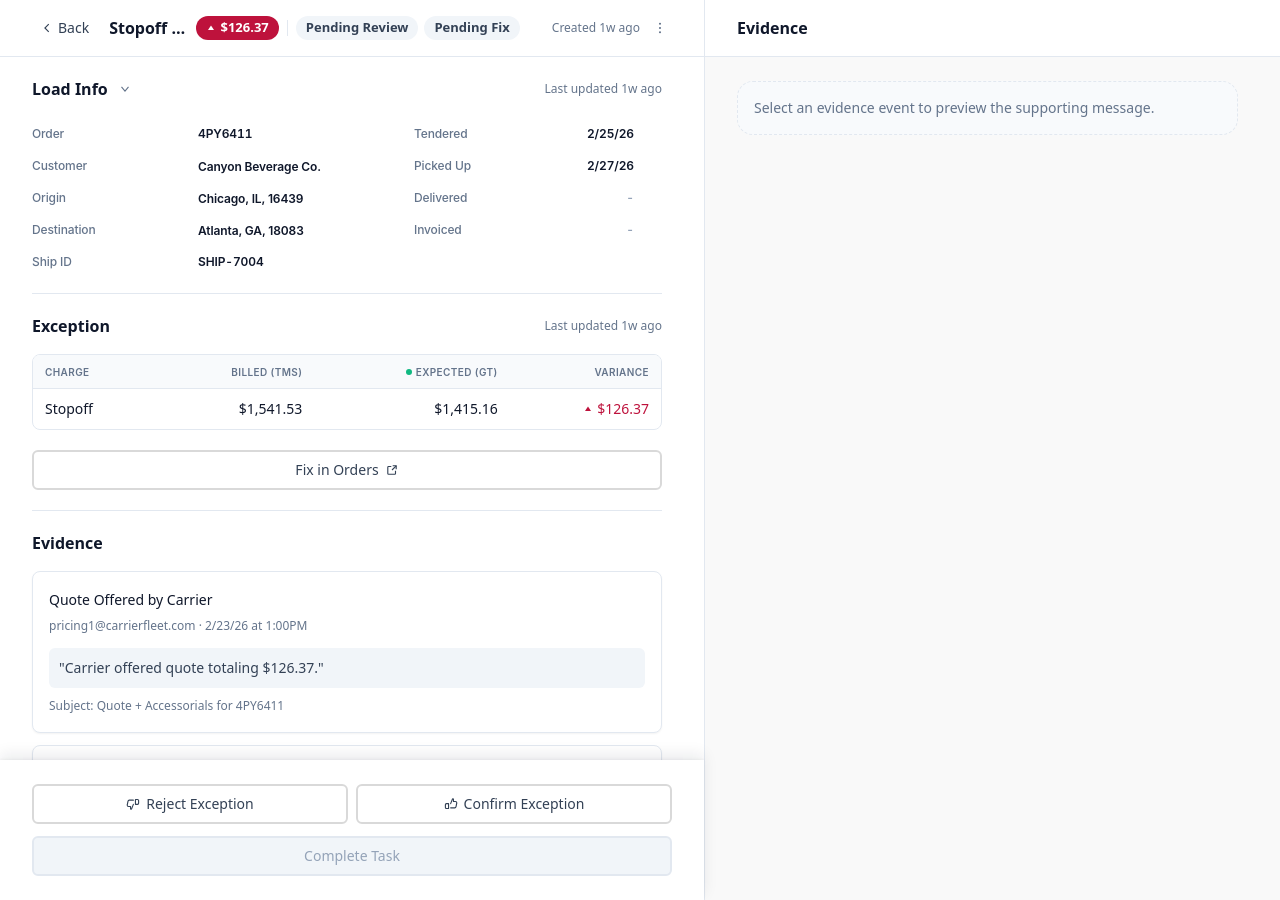
Test: DetailPage › updates header status chips based on agree/disagree selection and supports deselect
Expected: the element with test id "default-decision-row" is shown, [32,784,672,824]
Expected: the button with test id "complete-task-inactive" is disabled, [32,836,672,876]
Click the button with test id "decision-disagree".
click(190, 804)  # box [32,784,348,824]
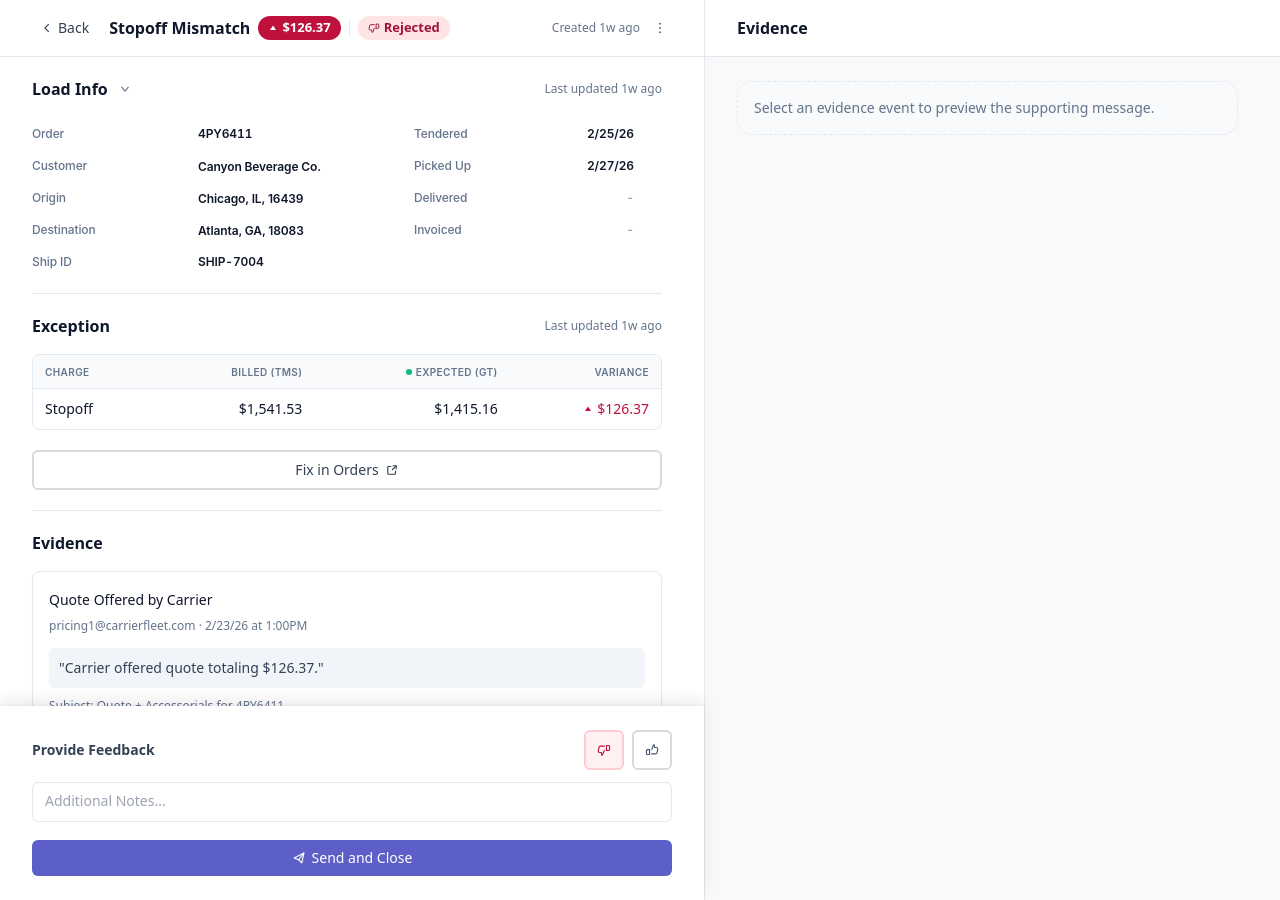
Expected: the element with test id "decision-compact-row" is shown, [32,730,672,770]
Expected: the text "Provide Feedback" is shown, [32,740,155,760]
Expected: the element with test id "detail-status-chips" reads "Rejected", [384,18,440,36]
Click the button with test id "decision-disagree".
click(604, 750)  # box [584,730,624,770]
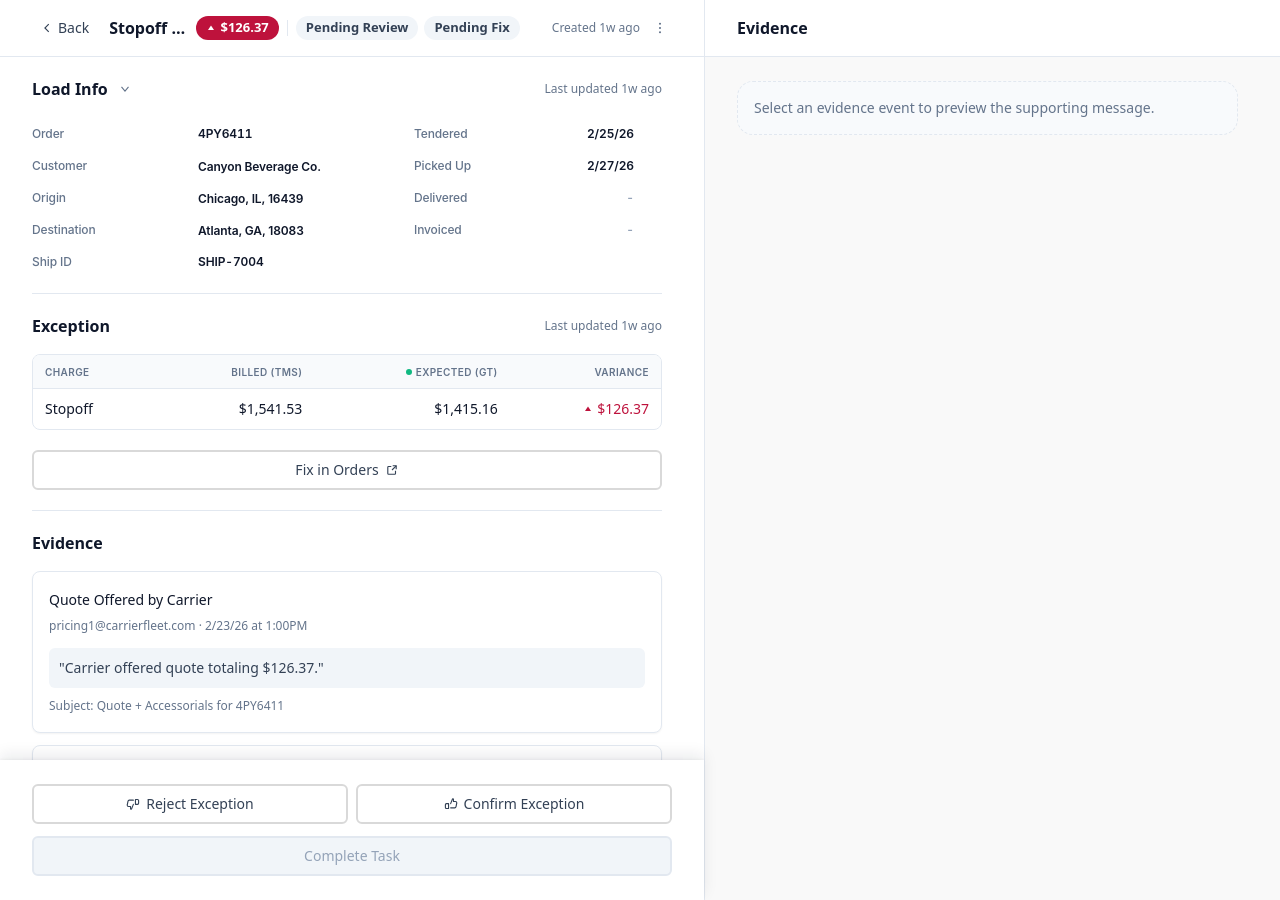
Expected: the element with test id "default-decision-row" is shown, [32,784,672,824]
Expected: the button with test id "complete-task-inactive" is disabled, [32,836,672,876]
Expected: the element with test id "detail-status-chips" shows "Pending Review", [306,18,408,36]
Click the button with test id "decision-agree".
click(514, 804)  # box [356,784,672,824]
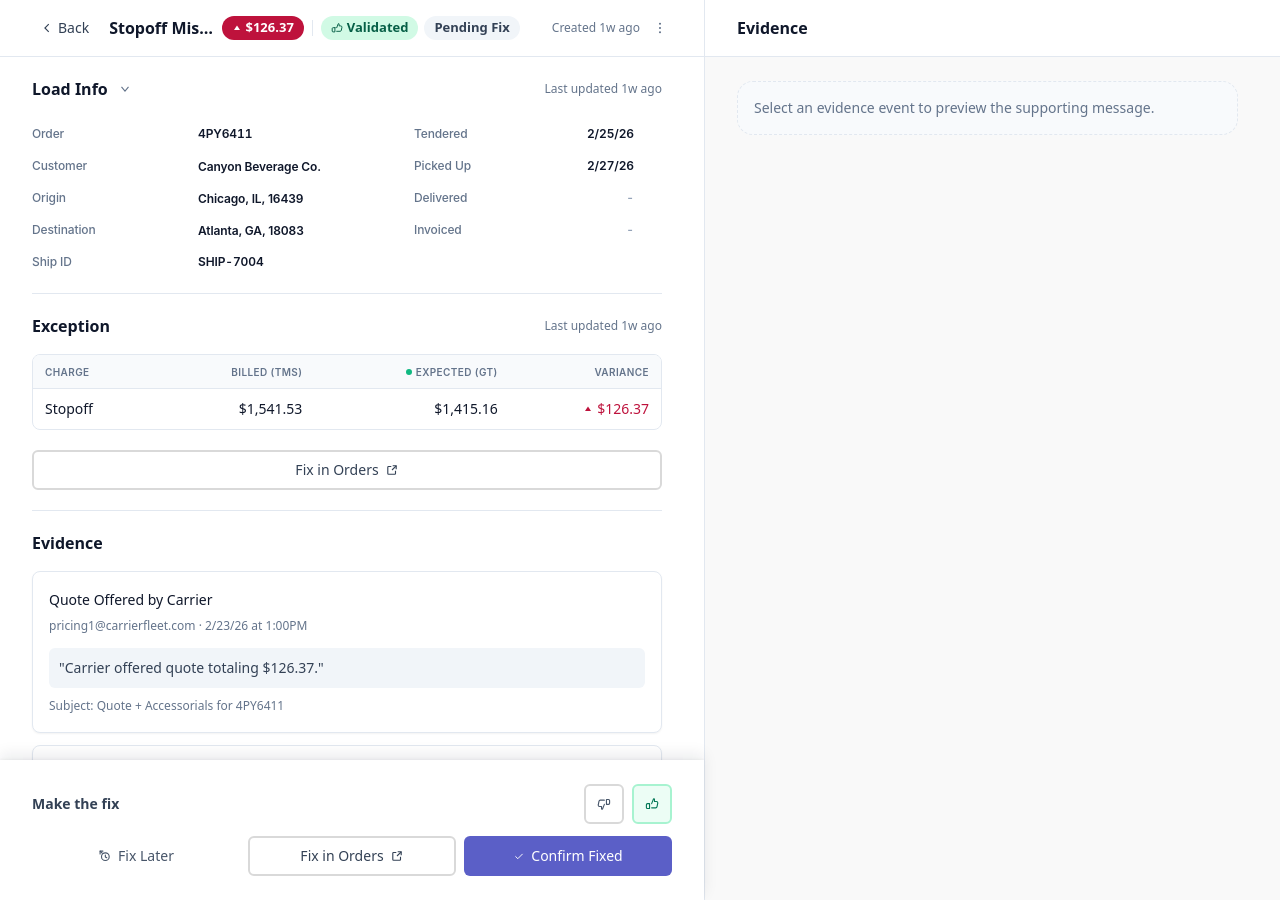
Expected: the element with test id "decision-compact-row" is shown, [32,784,672,824]
Expected: the text "Make the fix" is shown, [32,794,119,814]
Expected: the element with test id "detail-status-chips" shows "Validated", [347,18,408,36]
Click the button with test id "decision-agree".
click(652, 804)  # box [632,784,672,824]
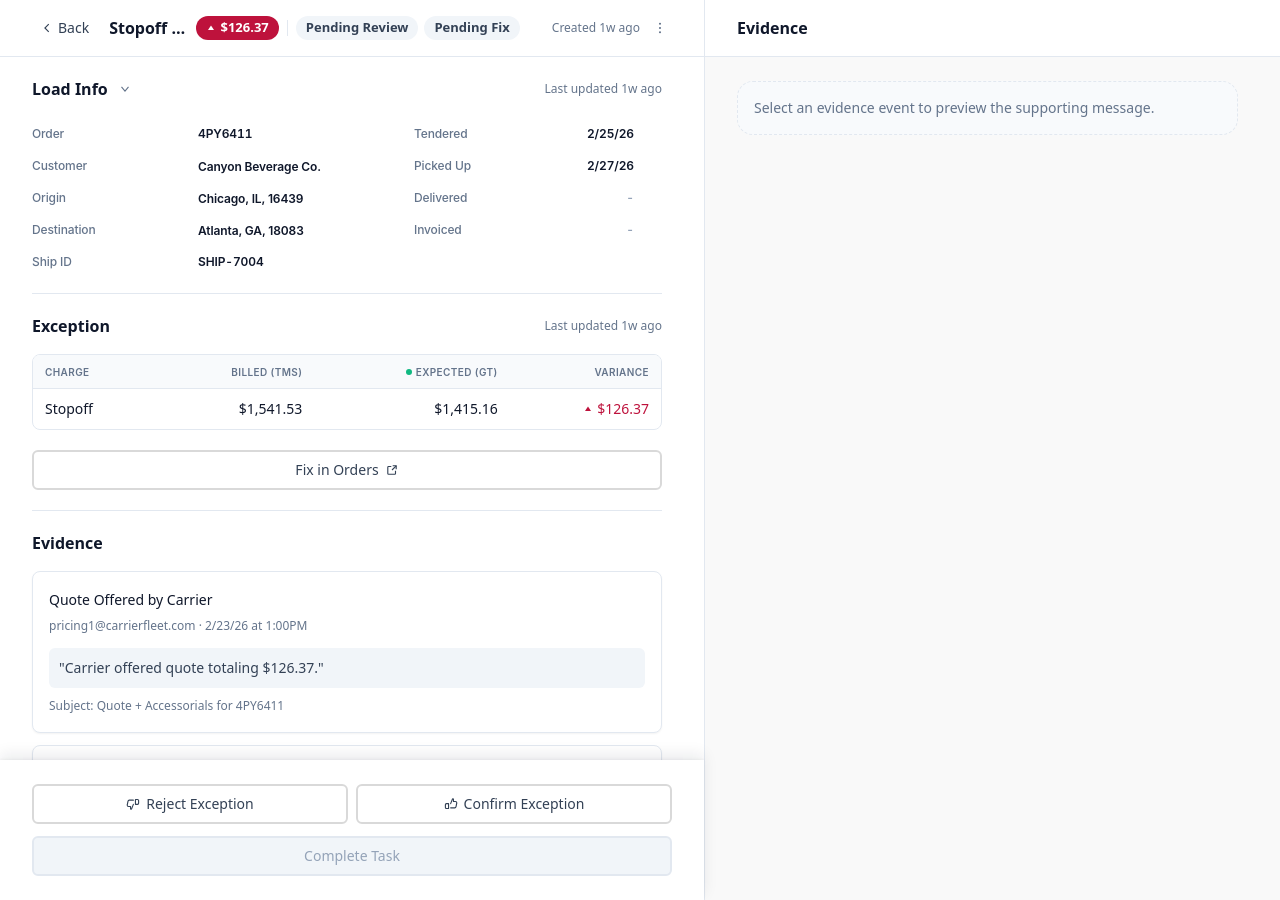
Expected: the element with test id "default-decision-row" is shown, [32,784,672,824]
Expected: the button with test id "complete-task-inactive" is disabled, [32,836,672,876]
Expected: the element with test id "detail-status-chips" shows "Pending Review", [306,18,408,36]
